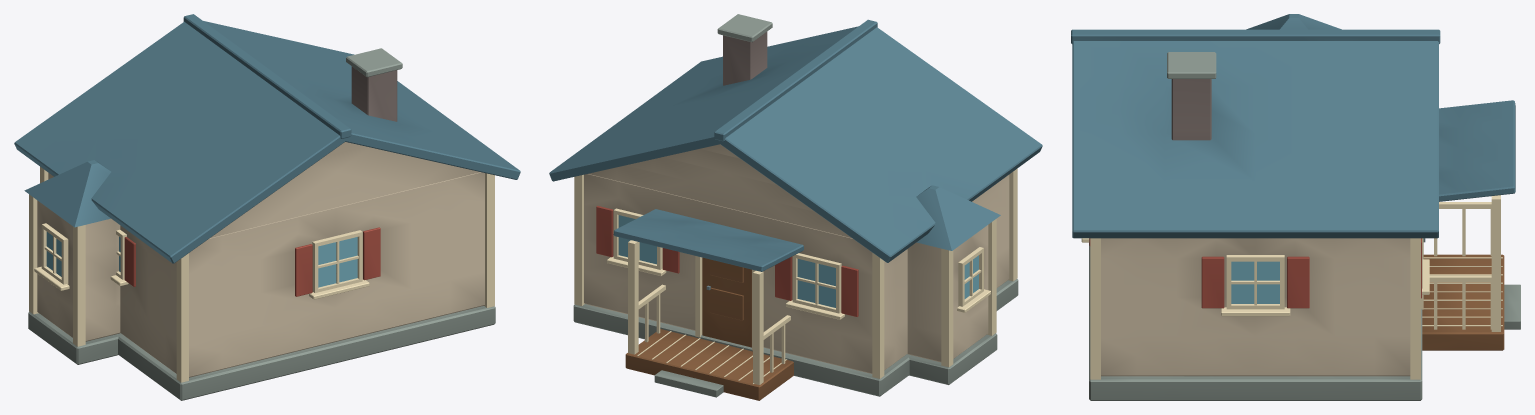
Rendered from sm_arch_delivery_house_bungalow.glb.
3 renders of one model, left to right at view 1: azimuth 30°, elevation 25°; view 2: azimuth 150°, elevation 25°; view 3: azimuth 270°, elevation 25°, orthographic. The views are drawn at different scales.
Visible parts, largest first — view 1: HouseWalls, Roof, Roof.001, RoofGable.001, Foundation, HouseWalls.001, BayRoof, RoofRidge, Chimney, Foundation.001, CornerBoard, CornerBoard.004 (+7 smaller); view 2: Roof, HouseWalls, Roof.001, RoofGable, HouseWalls.001, Porch, PorchRoof, Foundation, BayRoof, FrontDoor, RoofRidge, Foundation.001 (+18 smaller); view 3: Roof.001, HouseWalls, Foundation, PorchRoof, Porch, RoofRidge, Chimney, WindowGlass.004, CornerBoard.002, CornerBoard.003, PorchPost.001, ChimneyCap (+6 smaller).
Part boxes in pixels (x1,y1,x2,y2): HouseWalls: (48,172,484,377); Roof: (14,21,346,263); Roof.001: (203,21,520,179); RoofGable.001: (210,142,480,237); Foundation: (117,306,495,400); HouseWalls.001: (37,200,120,341); BayRoof: (24,160,110,227); RoofRidge: (183,14,351,138); Chimney: (351,66,397,121); Foundation.001: (28,311,122,364); CornerBoard: (176,253,188,382); CornerBoard.004: (73,225,85,346); Roof: (719,27,1042,262); HouseWalls: (584,174,1009,373); Roof.001: (549,26,858,181); RoofGable: (588,144,851,237); HouseWalls.001: (907,225,988,362); Porch: (625,329,793,400); PorchRoof: (613,209,803,271); Foundation: (573,279,1018,396); BayRoof: (916,185,1000,250); FrontDoor: (702,257,751,347); RoofRidge: (714,19,877,141); Foundation.001: (909,333,997,384); Roof.001: (1072,41,1438,238); HouseWalls: (1101,238,1410,376); Foundation: (1089,243,1422,400); PorchRoof: (1439,100,1515,201); Porch: (1422,254,1504,350); RoofRidge: (1071,29,1440,43); Chimney: (1171,79,1211,140); WindowGlass.004: (1231,261,1279,303); CornerBoard.002: (1090,238,1100,379); CornerBoard.003: (1410,238,1420,379); PorchPost.001: (1491,195,1500,331); ChimneyCap: (1167,52,1216,78).
Bounding box in the file's own units: 7.68 × 4.88 × 6.75.
